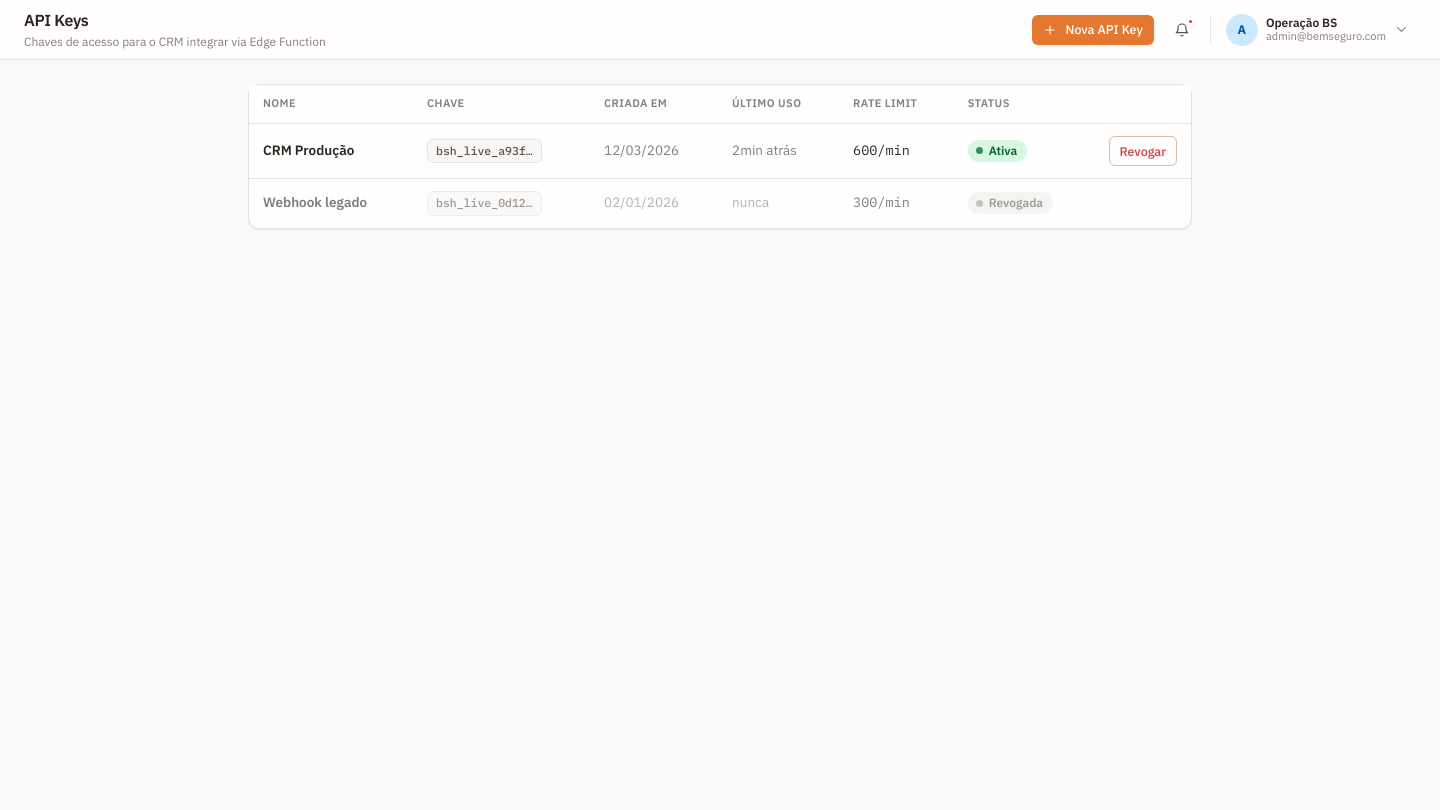
Test: ApiKeys › criar chave: gera, salva e exibe a chave uma única vez
This screenshot has width=1440, height=810.
Expected: the text "CRM Produção" is shown, [249,123,413,178]
Click the button "Nova API Key" at (1093, 30), box [1032,14,1154,44]
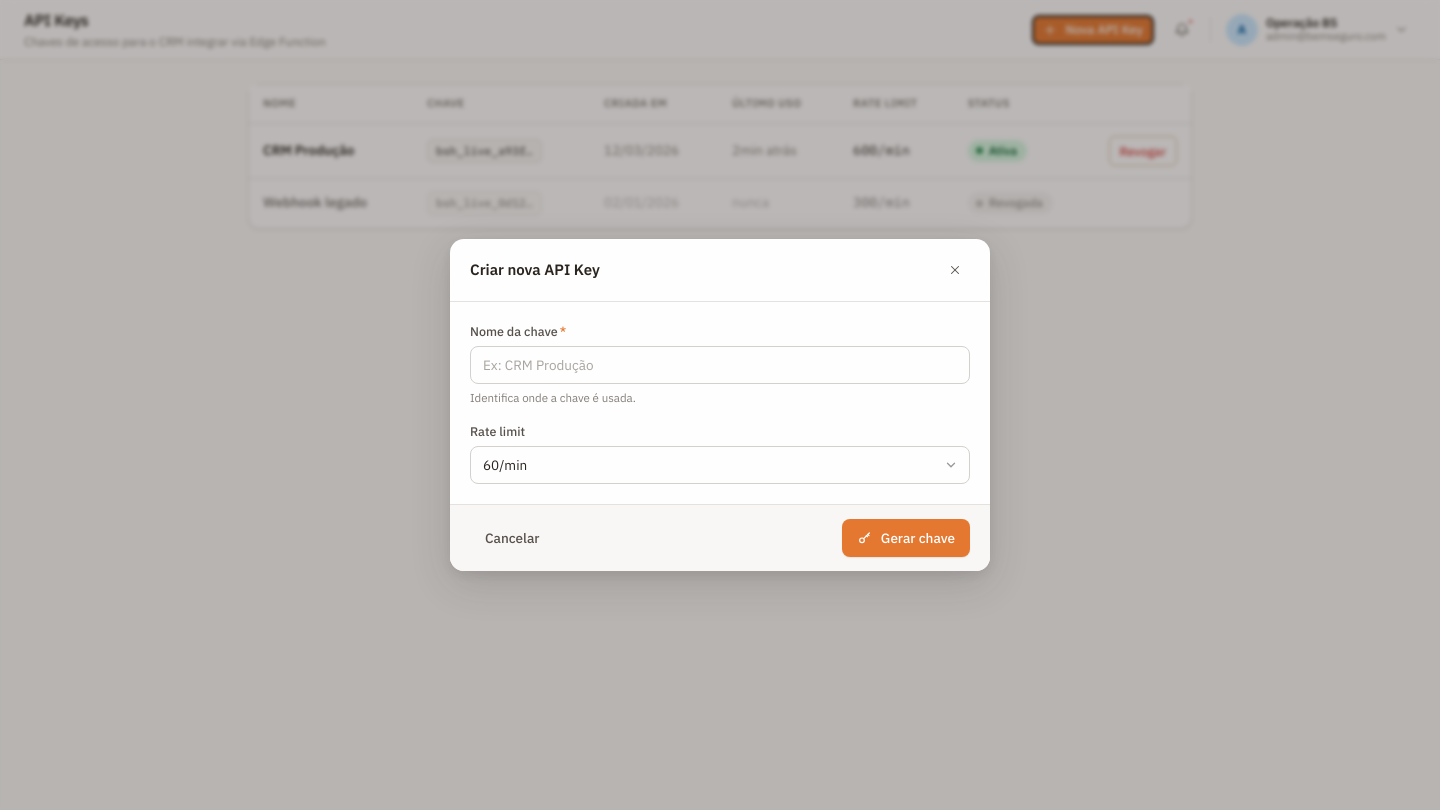
Result: the text "Criar nova API Key" is shown at [470,259,600,280]
Type "CRM Teste" into the field named "Nome da chave" at (720, 365), box [470,346,970,384]
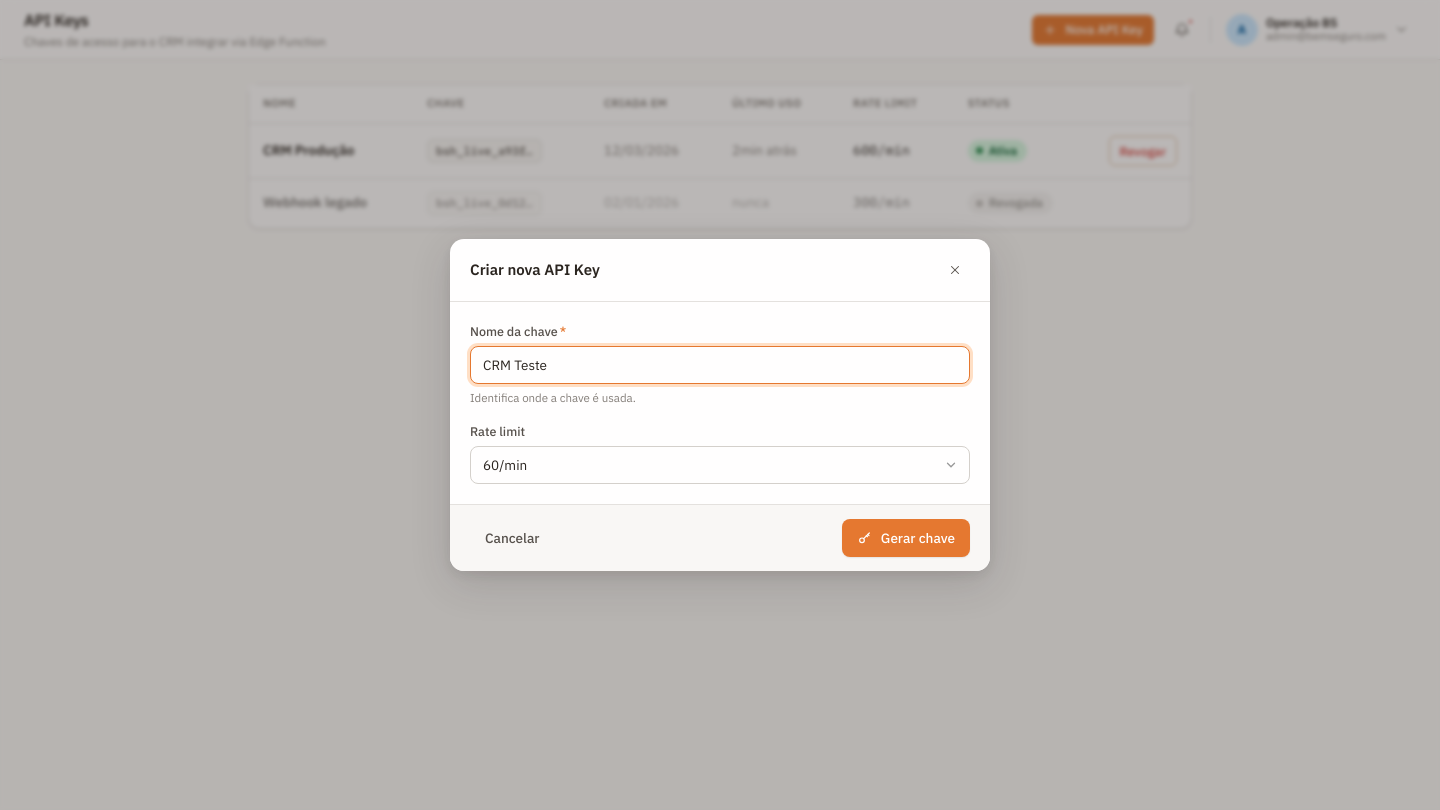
Click the button "Gerar chave" at (906, 538), box [842,520,970,558]
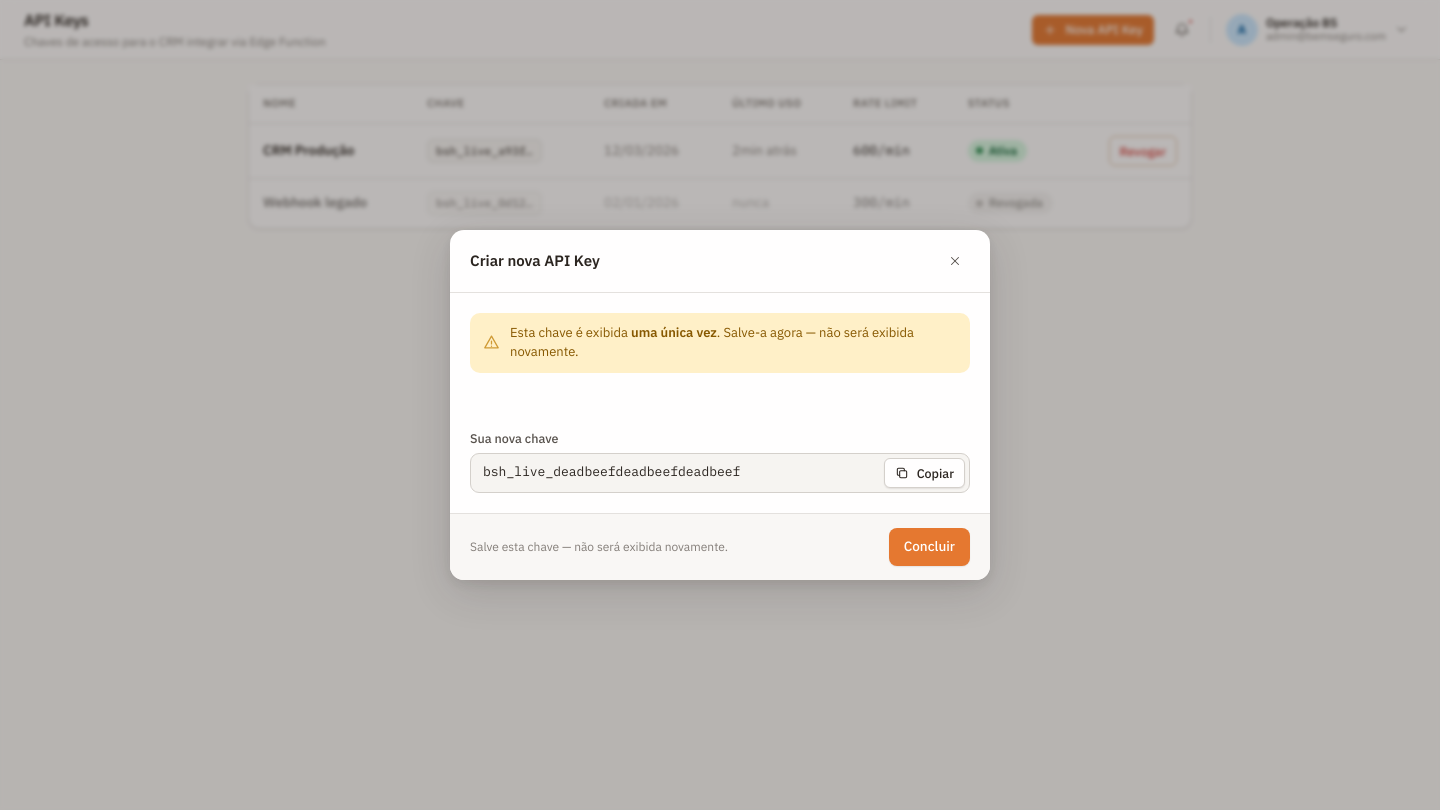
Result: the text "bsh_live_deadbeefdeadbeefdeadbeef" is shown at [483,464,740,480]
Result: the text "não será exibida novamente" is shown at [510,324,914,360]
